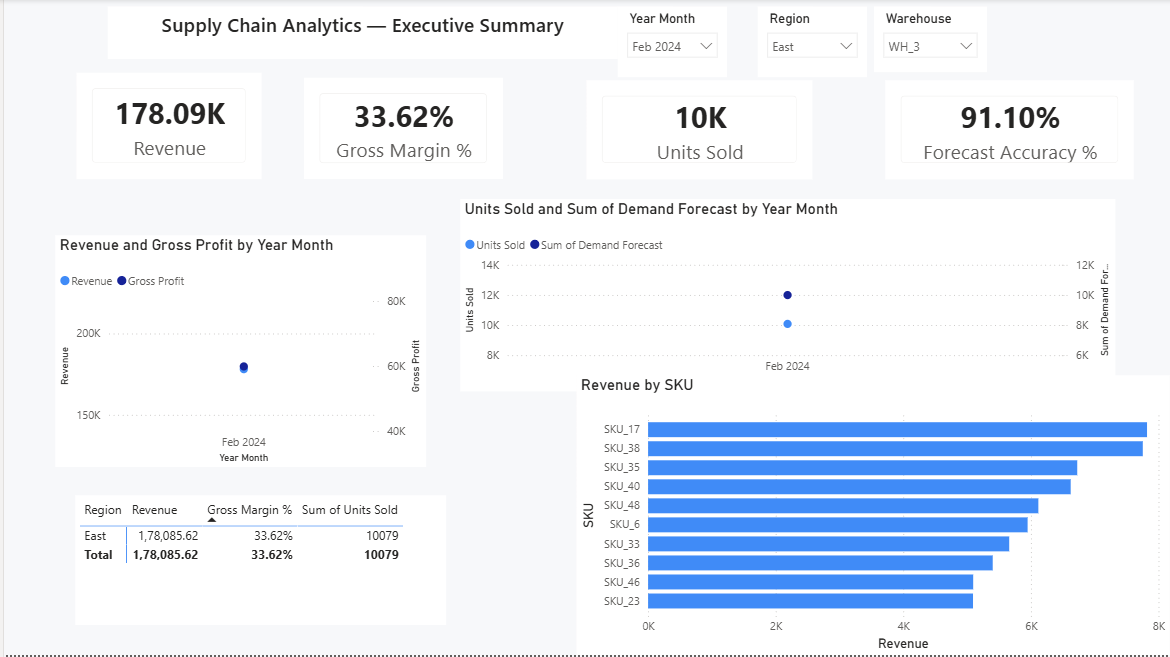

The dashboard page shown, as its layout file describes it:
{"tool":"powerbi","page":{"name":"Executive Summary","canvas":[1280,720],"ordinal":0},"visuals":[{"type":"cardVisual","fields":{"Data":["_Measures (2).Revenue"]},"box":[79.6,81,203.1,116.6],"z":0},{"type":"cardVisual","fields":{"Data":["_Measures (2).Gross Margin %"]},"box":[329.3,86.4,218.2,111.1],"z":1000},{"type":"cardVisual","fields":{"Data":["Sum(Fact Supply Chain.Units Sold)"]},"box":[639.5,89.2,248.4,108.4],"z":2000},{"type":"lineChart","fields":{"Category":["Dim Date.Year Month"],"Y":["_Measures (2).Revenue"],"Y2":["_Measures (2).Gross Profit"]},"box":[56.3,259.3,407.4,254.8],"z":3000},{"type":"areaChart","fields":{"Category":["Dim Date.Year Month"],"Y":["_Measures (2).Units Sold"],"Y2":["Sum(Fact Supply Chain.Demand Forecast)"]},"box":[500.9,219.6,719,211.3],"z":4000},{"type":"cardVisual","fields":{"Data":["_Measures (2).Forecast Accuracy %"]},"box":[967.4,89.2,273.1,108.4],"z":5000},{"type":"pivotTable","fields":{"Rows":["Dim Region.Region"],"Values":["_Measures (2).Revenue","_Measures (2).Gross Margin %","Sum(Fact Supply Chain.Units Sold)"]},"box":[78.2,544.8,407.4,142.8],"z":6000},{"type":"clusteredBarChart","fields":{"Y":["_Measures (2).Revenue"],"Category":["Dim Product.SKU"]},"box":[628.9,413.2,651.1,307.5],"z":7000},{"type":"textbox","box":[113.9,8.2,559.9,57.6],"z":8000},{"type":"slicer","fields":{"Values":["Dim Date.Year Month"]},"box":[673.4,8.3,119.7,77.9],"z":9000},{"type":"slicer","fields":{"Values":["Dim Region.Region"]},"box":[827.8,8.3,119.7,77.9],"z":10000},{"type":"slicer","fields":{"Values":["Fact Supply Chain.Warehouse"]},"box":[954.4,8.3,123.8,72.3],"z":11000}]}

Visuals, with their boxes in screenshot pixels (x1, y1, x2, y2), scaled from the page's 1280x720 canvas onto the 1170x657 screenshot:
cardVisual - _Measures (2).Revenue: [x1=73, y1=74, x2=258, y2=180]
cardVisual - _Measures (2).Gross Margin %: [x1=301, y1=79, x2=500, y2=180]
cardVisual - Sum(Fact Supply Chain.Units Sold): [x1=585, y1=81, x2=812, y2=180]
lineChart - Dim Date.Year Month x _Measures (2).Revenue: [x1=51, y1=237, x2=424, y2=469]
areaChart - Dim Date.Year Month x _Measures (2).Units Sold: [x1=458, y1=200, x2=1115, y2=393]
cardVisual - _Measures (2).Forecast Accuracy %: [x1=884, y1=81, x2=1134, y2=180]
pivotTable - Dim Region.Region x _Measures (2).Revenue: [x1=71, y1=497, x2=444, y2=627]
clusteredBarChart - _Measures (2).Revenue x Dim Product.SKU: [x1=575, y1=377, x2=1169, y2=656]
textbox: [x1=104, y1=7, x2=616, y2=60]
slicer - Dim Date.Year Month: [x1=616, y1=8, x2=725, y2=79]
slicer - Dim Region.Region: [x1=757, y1=8, x2=866, y2=79]
slicer - Fact Supply Chain.Warehouse: [x1=872, y1=8, x2=986, y2=74]
